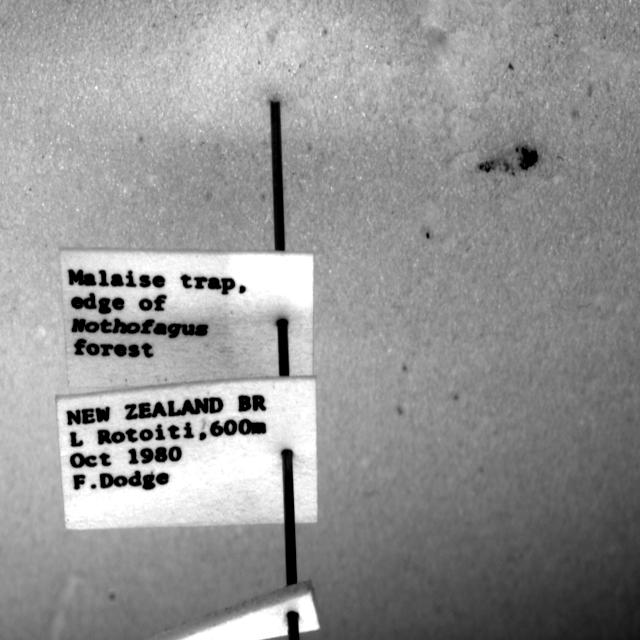typed_label: (56, 377, 318, 529), (60, 249, 314, 388)
